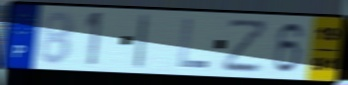1: (84, 10, 105, 70)
6: (274, 21, 305, 75)
8: (37, 9, 77, 67)
I: (132, 13, 151, 71)
L: (176, 18, 210, 70)
Z: (222, 19, 271, 74)
